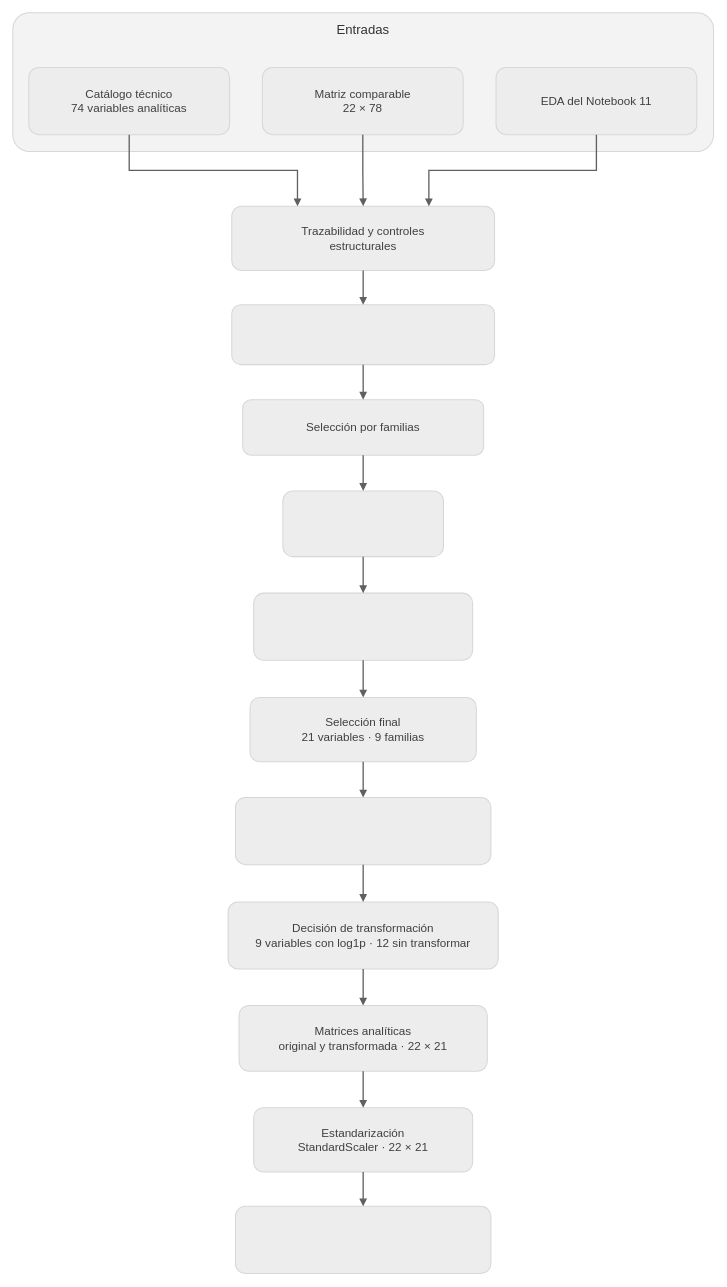
Some shapes in this 727 by 1287 pixel diagram are drawn without their labels. Here are the shapes that lost their labels. From the top down, the box of each, then its label:
(231, 304, 495, 365): Relaciones estructurales y equivalencias
(282, 490, 444, 557): Preselección 23 variables
(253, 592, 473, 660): Revisión global de redundancias 8 correlaciones altas
(235, 797, 491, 865): Diagnóstico de transformaciones asimetría, ceros y valores negativos
(235, 1205, 491, 1274): Exportación y validación final matrices 22 × 25 · ZIP de 13 archivos
